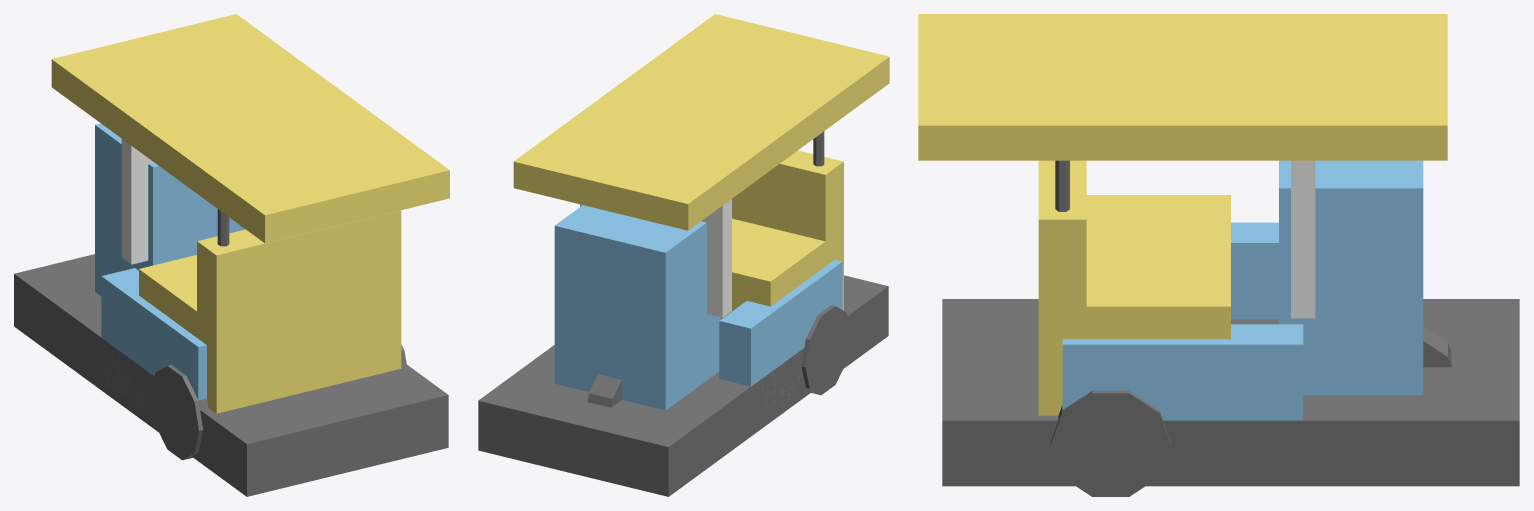
File: tuktuk_vehicle.glb
The picture shows the model from 3 angles, left to right: view 1: azimuth 30°, elevation 25°; view 2: azimuth 150°, elevation 25°; view 3: azimuth 270°, elevation 25°; orthographic projection. The views are drawn at different scales.
Parts seen in each view (by area): view 1: TT_Roof, TT_Chassis, TT_Seat, TT_BackSeat, TT_Shield, TT_PanelL, TT_WheelRL, TT_Windshield; view 2: TT_Roof, TT_Chassis, TT_Shield, TT_PanelL, TT_BackSeat, TT_Seat, TT_WheelRL, TT_Windshield, TT_WheelF; view 3: TT_Roof, TT_Chassis, TT_Shield, TT_Seat, TT_PanelR, TT_WheelRR, TT_BackSeat, TT_PanelL, TT_Windshield, TT_WheelF, TT_Post_0.45_-0.7.
Boxes of the visible parts, x1,y1,x2,y2 form: TT_Roof: [51, 14, 449, 243]; TT_Chassis: [14, 254, 448, 496]; TT_Seat: [139, 255, 401, 413]; TT_BackSeat: [197, 210, 401, 411]; TT_Shield: [95, 123, 245, 296]; TT_PanelL: [101, 268, 206, 418]; TT_WheelRL: [150, 365, 208, 460]; TT_Windshield: [121, 139, 153, 264]; TT_Roof: [513, 14, 889, 230]; TT_Chassis: [478, 275, 888, 496]; TT_Shield: [554, 205, 720, 410]; TT_PanelL: [719, 259, 842, 406]; TT_BackSeat: [732, 150, 843, 310]; TT_Seat: [720, 218, 843, 319]; TT_WheelRL: [801, 305, 851, 395]; TT_Windshield: [580, 199, 731, 317]; TT_WheelF: [587, 374, 621, 407]; TT_Roof: [918, 14, 1447, 160]; TT_Chassis: [942, 299, 1519, 486]; TT_Shield: [1279, 160, 1423, 395]; TT_Seat: [1038, 195, 1230, 415]; TT_PanelR: [1062, 324, 1303, 420]; TT_WheelRR: [1050, 390, 1170, 496]; TT_BackSeat: [1038, 160, 1086, 412]; TT_PanelL: [1231, 222, 1278, 319]; TT_Windshield: [1291, 160, 1315, 318]; TT_WheelF: [1423, 326, 1451, 367]; TT_Post_0.45_-0.7: [1055, 160, 1069, 211].
Size of the model in its own units: 1.25 by 1.67 by 2.5.
